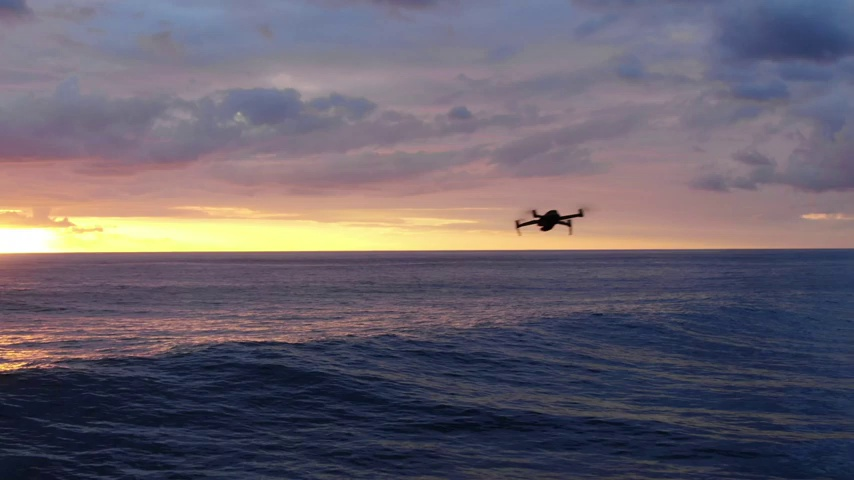drone: (515, 209, 584, 236)
